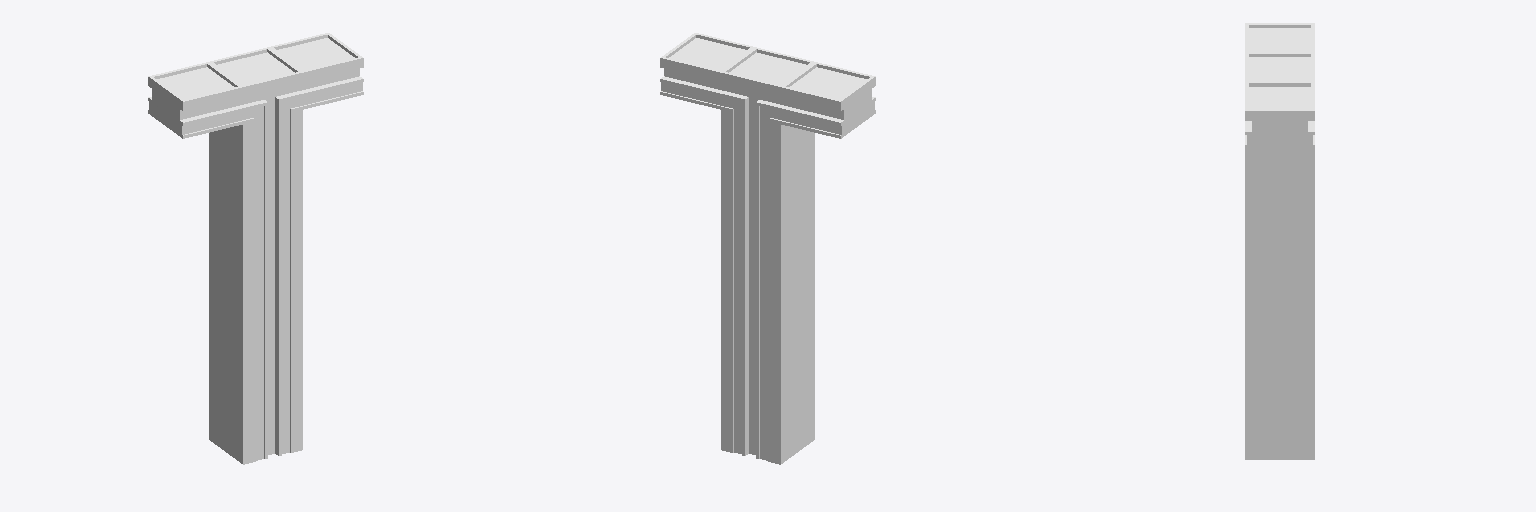
The model's file is TestLayout2-2.obj.
The picture shows the model from 3 angles: view 1: azimuth 30°, elevation 25°; view 2: azimuth 150°, elevation 25°; view 3: azimuth 270°, elevation 25°; orthographic projection.
Parts seen in each view (by area): view 1: object 1; view 2: object 1; view 3: object 1.
Boxes of the visible parts, x1=… form: object 1: x1=148, y1=33, x2=363, y2=464; object 1: x1=660, y1=33, x2=875, y2=464; object 1: x1=1245, y1=23, x2=1314, y2=459.
Size of the model in its own units: 11.7 by 23.4 by 3.9.